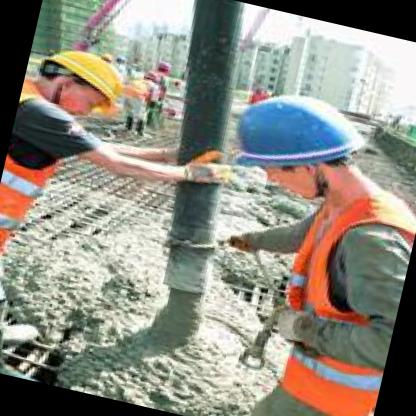helmet: (211, 69, 391, 213), (20, 35, 137, 127)
